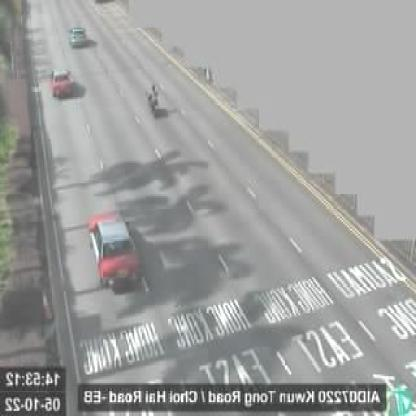Car: (90, 212, 140, 290), (50, 68, 74, 95), (70, 27, 86, 48)
